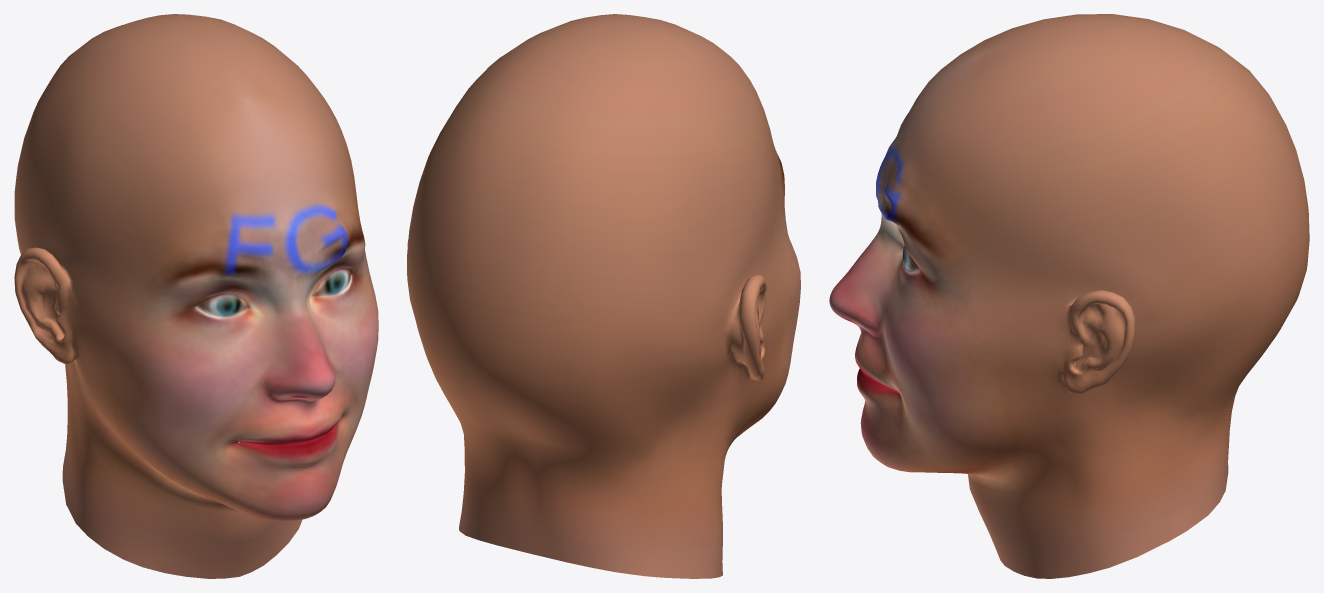
Rendered from avg_anyrace_female_10.obj.
3 renders of one model, left to right at view 1: azimuth 30°, elevation 25°; view 2: azimuth 150°, elevation 25°; view 3: azimuth 270°, elevation 25°, orthographic. The views are drawn at different scales.
Visible parts, largest first — view 1: HeadHires; view 2: HeadHires; view 3: HeadHires.
Boxes of the visible parts, x1,y1,x2,y2 form: HeadHires: (14, 14, 378, 578); HeadHires: (407, 14, 800, 578); HeadHires: (829, 14, 1309, 578).
Size of the model in its own units: 188 by 283 by 235.
1 material, 1 textured.
